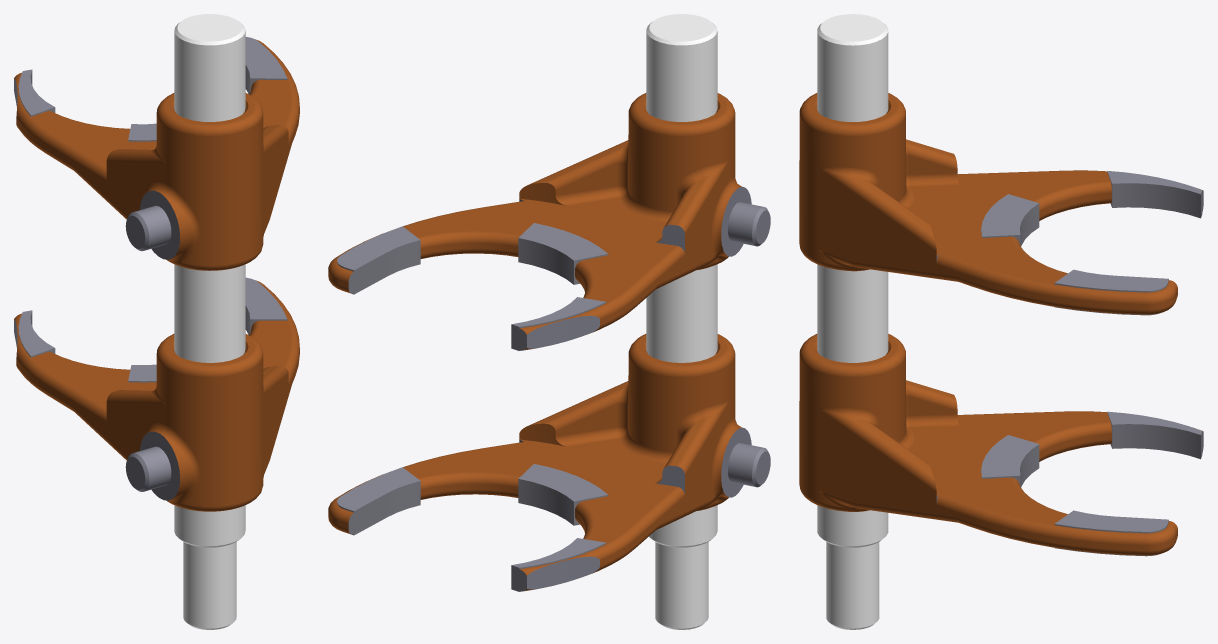
Rendered from shaft_countershaft_fork.fbx.
The picture shows the model from 3 angles, left to right: view 1: azimuth 30°, elevation 25°; view 2: azimuth 150°, elevation 25°; view 3: azimuth 270°, elevation 25°; orthographic projection.
Parts seen in each view (by area): view 1: Shaft, countershaft fork; view 2: Shaft, countershaft fork; view 3: Shaft, countershaft fork.
Boxes of the visible parts, x1=… form: Shaft, countershaft fork: x1=14, y1=14, x2=299, y2=629; Shaft, countershaft fork: x1=328, y1=14, x2=770, y2=629; Shaft, countershaft fork: x1=799, y1=14, x2=1203, y2=629.
Size of the model in its own units: 5.48 by 11 by 6.81.
